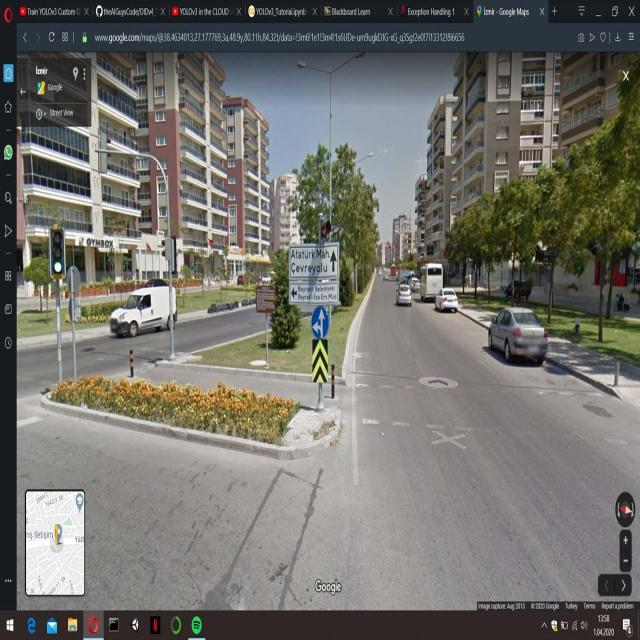ilerisol: (311, 304, 329, 338)
yesil: (50, 226, 65, 276)
